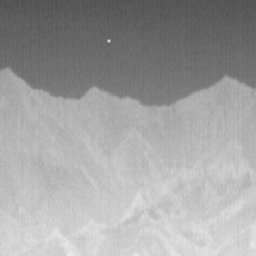Target: (106, 38, 112, 44)
